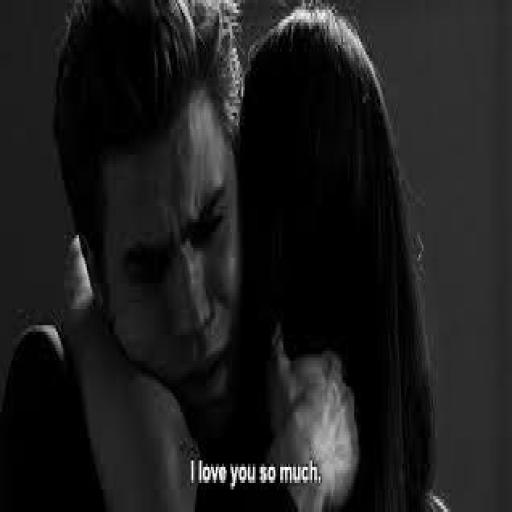hugging: (2, 0, 444, 509), (229, 3, 441, 509)
